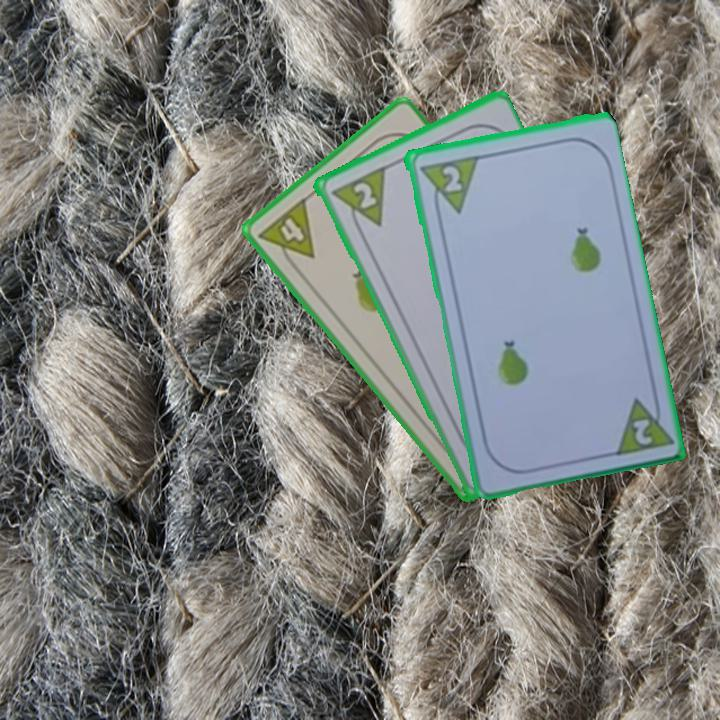2p: (326, 162, 388, 238), (438, 161, 465, 195), (629, 414, 655, 448)
4p: (255, 194, 318, 274)
